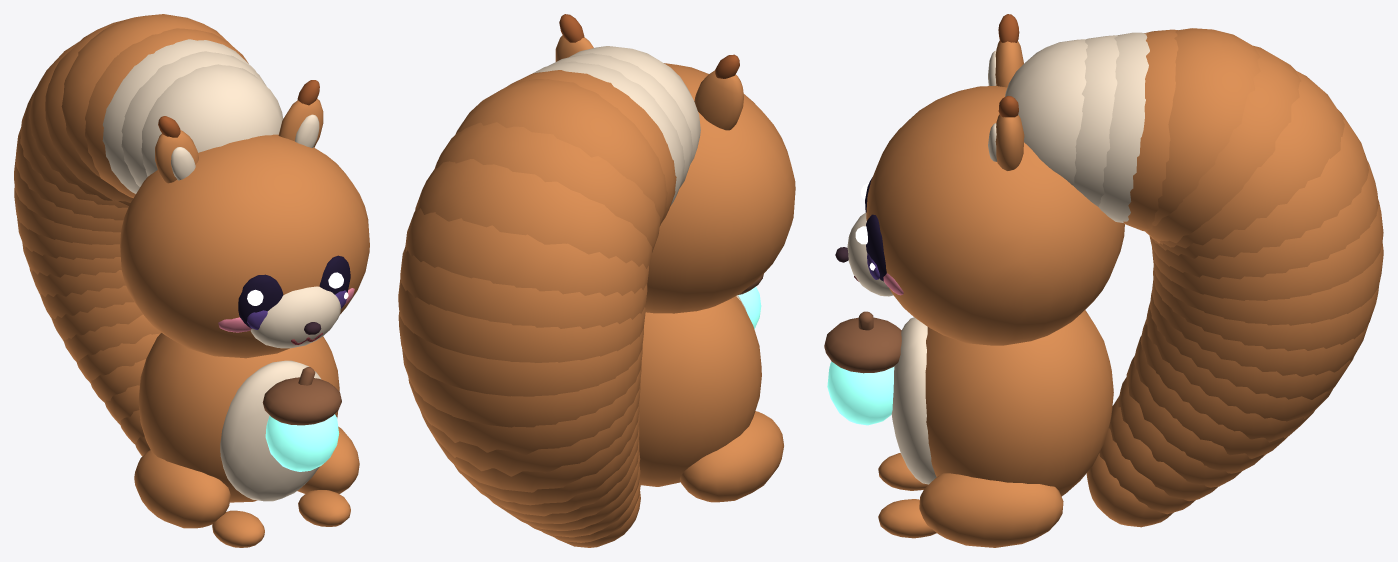
File: squirrel.glb
3 views of the same model, side by side, from view 1: azimuth 30°, elevation 25°; view 2: azimuth 150°, elevation 25°; view 3: azimuth 270°, elevation 25° (orthographic). The views are drawn at different scales.
Parts seen in each view (by area): view 1: squirrel; view 2: squirrel; view 3: squirrel.
Boxes of the visible parts, left/top/right/bottom form: squirrel: left=14, top=14, right=369, bottom=547; squirrel: left=398, top=14, right=795, bottom=547; squirrel: left=824, top=14, right=1383, bottom=547.
Size of the model in its own units: 0.4476 by 0.8202 by 0.8635.
